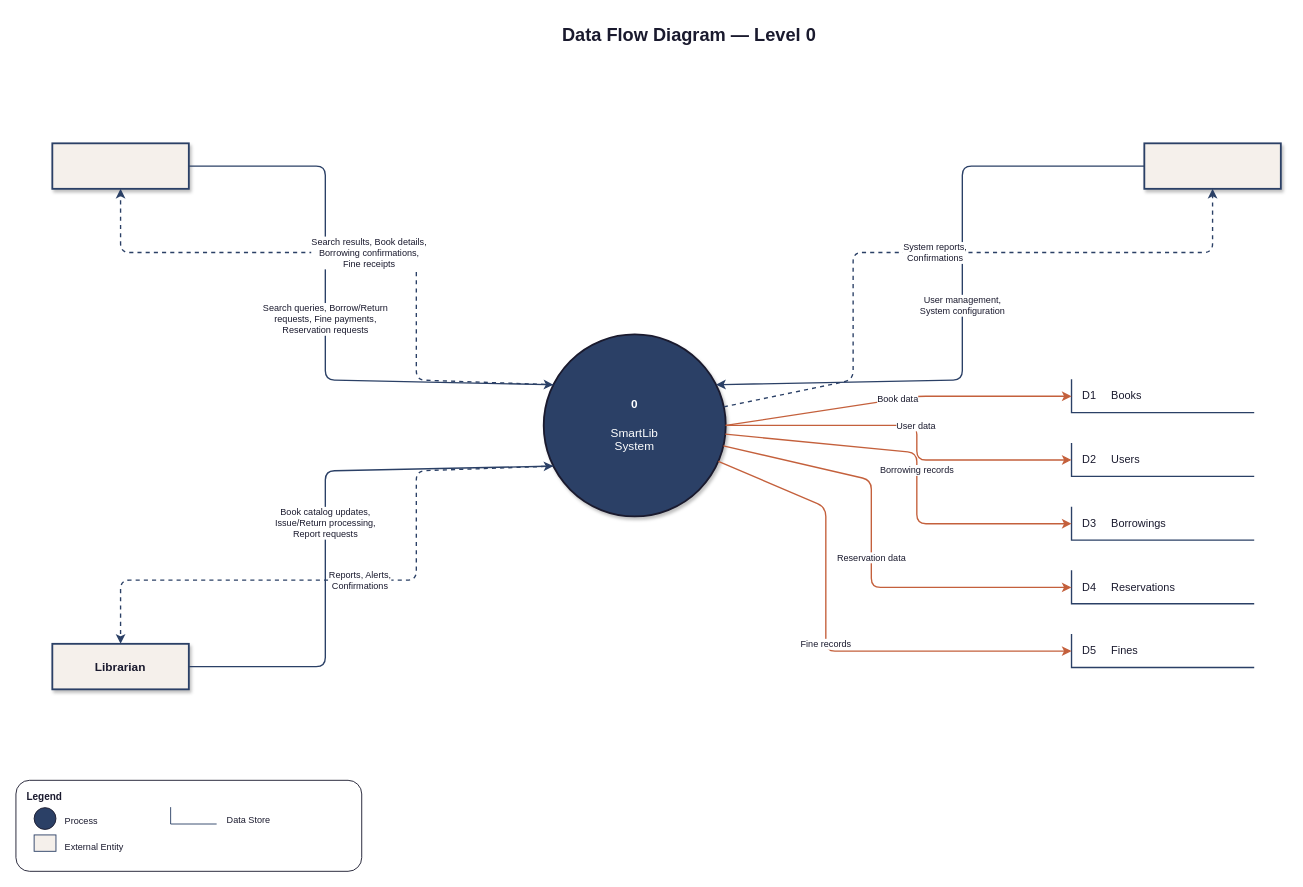
Image size: 1303x887. Some labels were removed from this diagram. Each missing label, with the centre of its shape:
"Admin" goes at point 1213,167.
"Student" goes at point 121,167.
